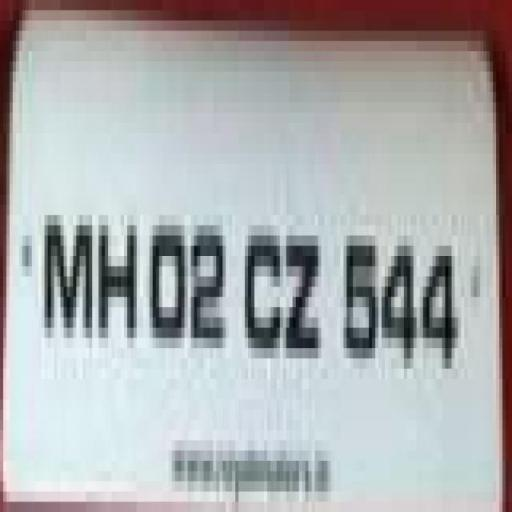number plate: (16, 30, 512, 492)
